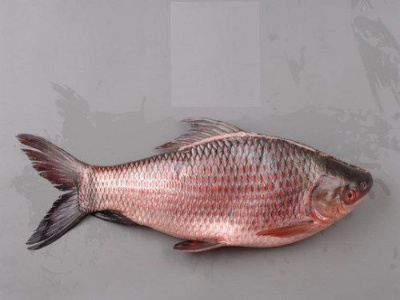rohu: (10, 108, 376, 261)
